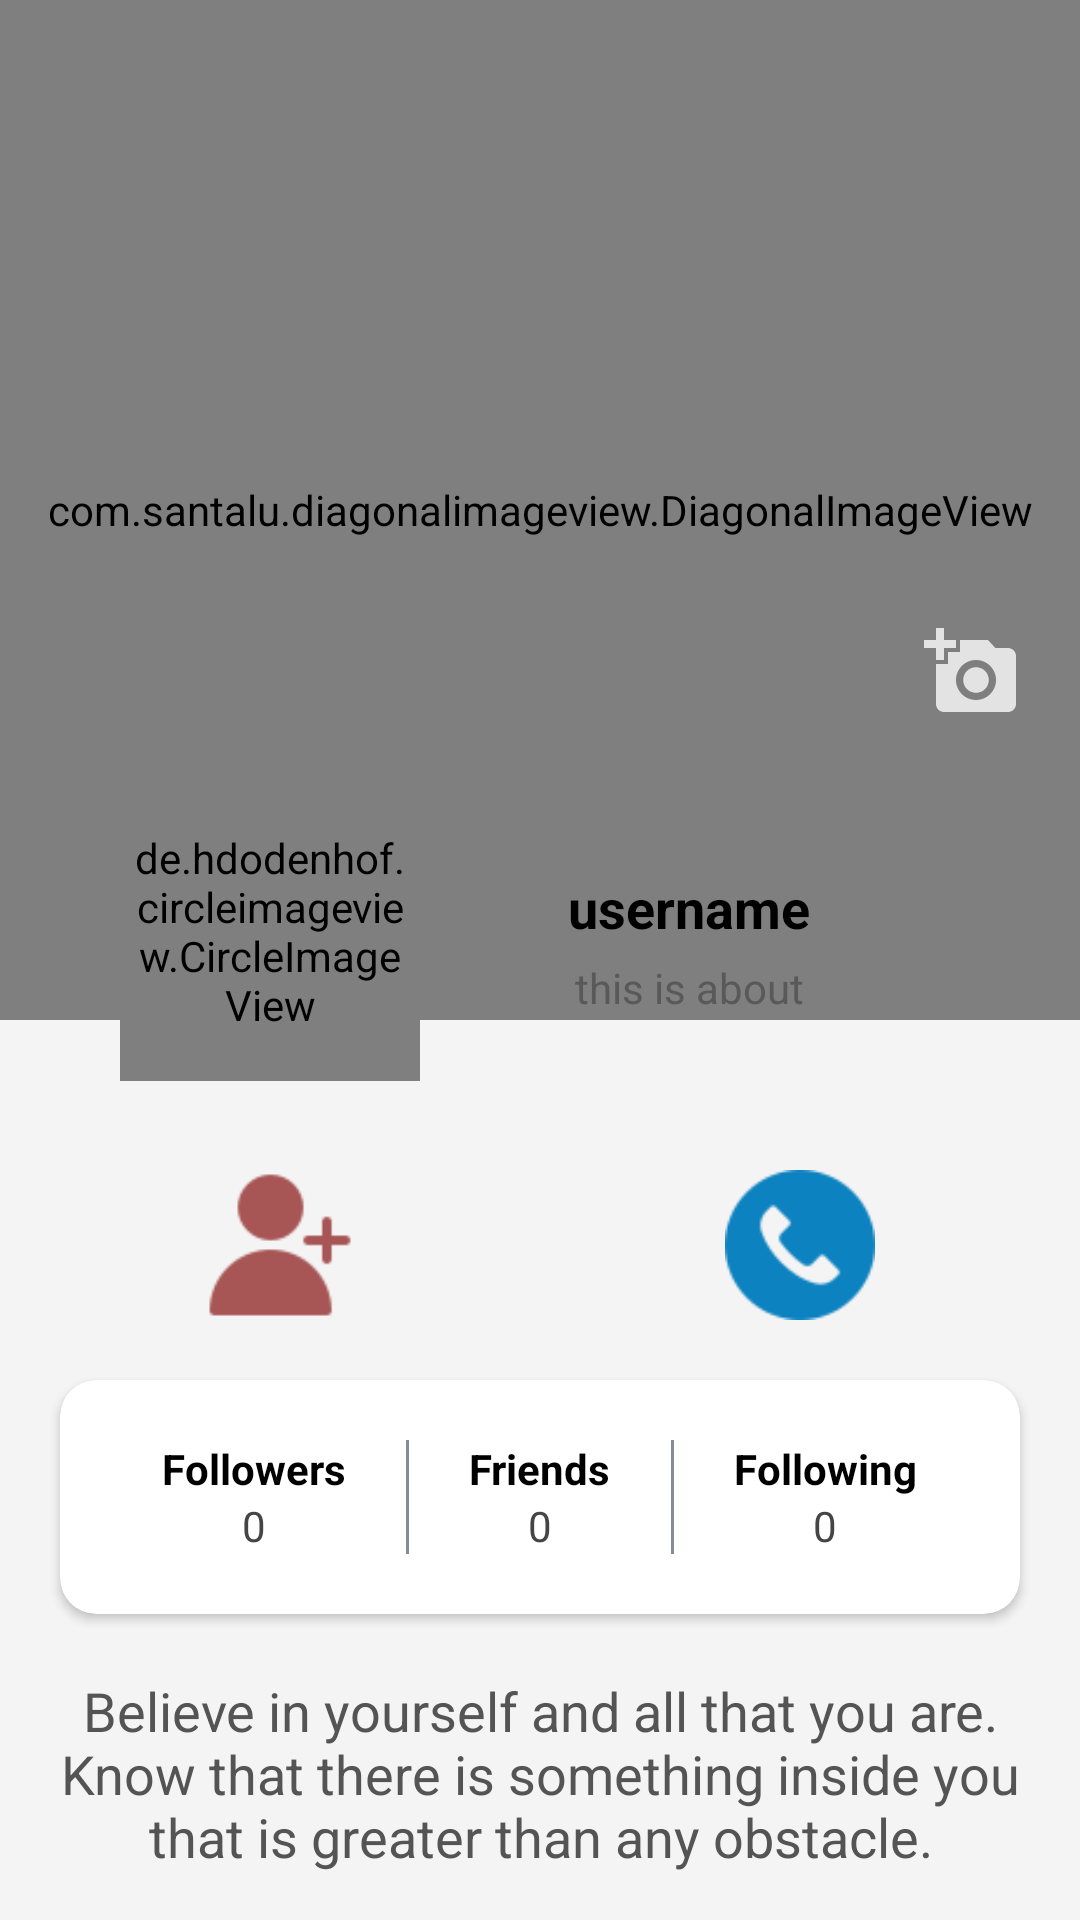

Icon bounding boxes for this 1080w x 1920h phone screenshot, format (left=x1, top=y1, right=x2, bottom=y2):
addimage: (left=924, top=628, right=1016, bottom=712)
phone: (left=725, top=1170, right=875, bottom=1320)
